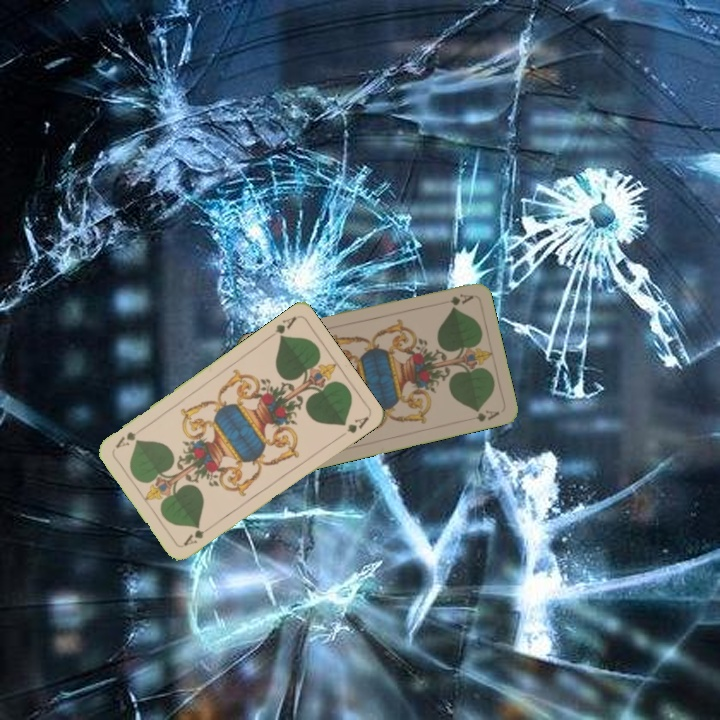GA: (264, 312, 299, 342), (179, 523, 216, 549), (446, 290, 476, 308)
